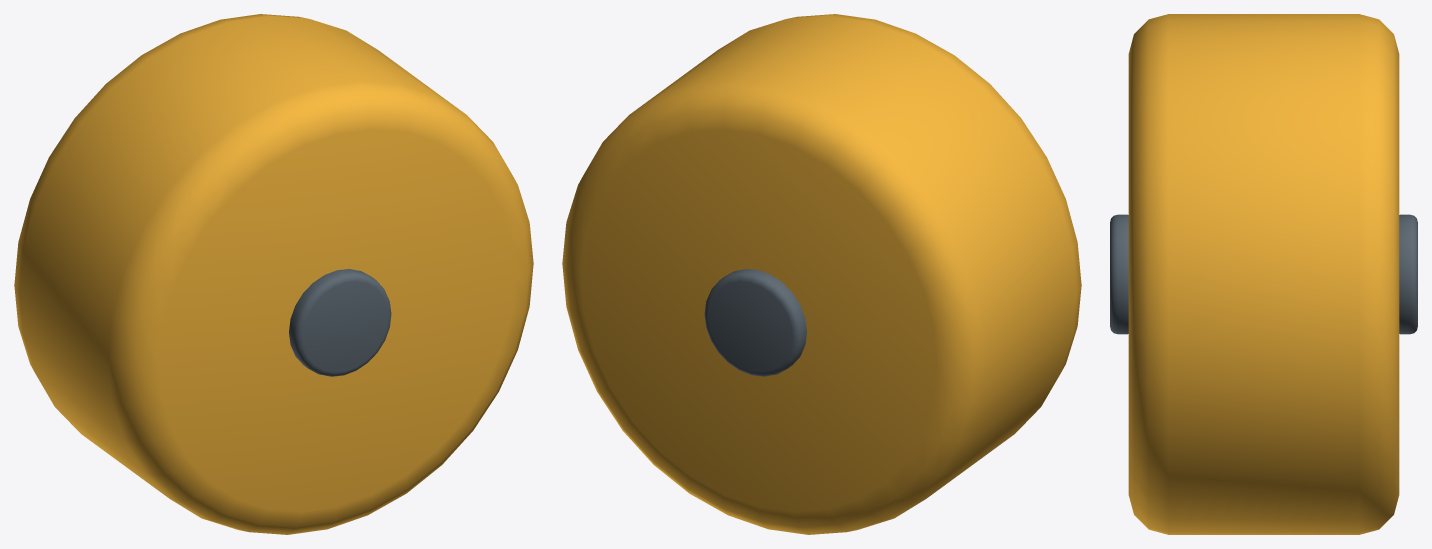
File: wheel.glb
3 renders of one model, left to right at view 1: azimuth 30°, elevation 25°; view 2: azimuth 150°, elevation 25°; view 3: azimuth 270°, elevation 25°, orthographic. The views are drawn at different scales.
Parts seen in each view (by area): view 1: wheel_textured_mesh; view 2: wheel_textured_mesh; view 3: wheel_textured_mesh.
Boxes of the visible parts, bbox=[...] form: wheel_textured_mesh: bbox=[14, 14, 533, 534]; wheel_textured_mesh: bbox=[562, 14, 1081, 534]; wheel_textured_mesh: bbox=[1110, 14, 1417, 534].
Bounding box in the file's own units: 1.04 × 1.04 × 0.614.
1 material, 1 textured.
